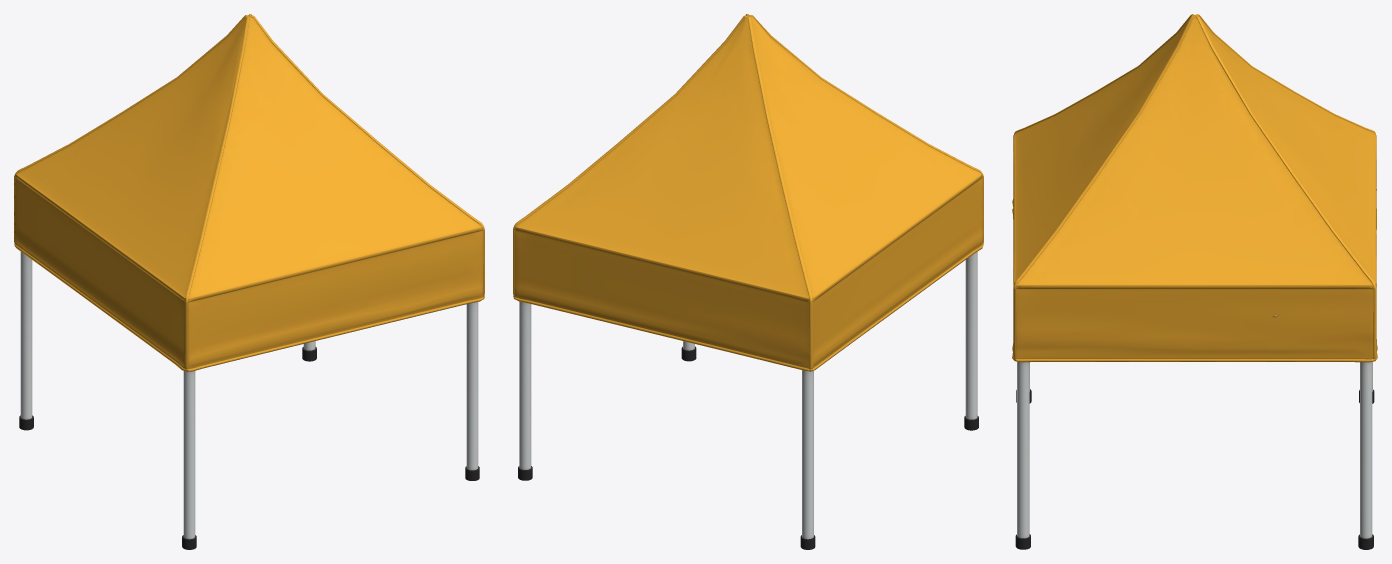
Rendered from Tent 6.5_6.5.glb.
The picture shows the model from 3 angles, left to right: view 1: azimuth 30°, elevation 25°; view 2: azimuth 150°, elevation 25°; view 3: azimuth 270°, elevation 25°; orthographic projection. The views are drawn at different scales.
Visible parts, largest first — view 1: fabric, leg; view 2: fabric, leg; view 3: fabric, leg.
Part boxes in pixels (x1,y1,x2,y2): fabric: (14, 14, 484, 371); leg: (19, 252, 479, 549); fabric: (513, 14, 983, 371); leg: (518, 251, 978, 549); fabric: (1012, 14, 1377, 362); leg: (1015, 361, 1374, 549).
Size of the model in its own units: 1.53 by 2.12 by 1.53.
3 materials, 2 textured.
